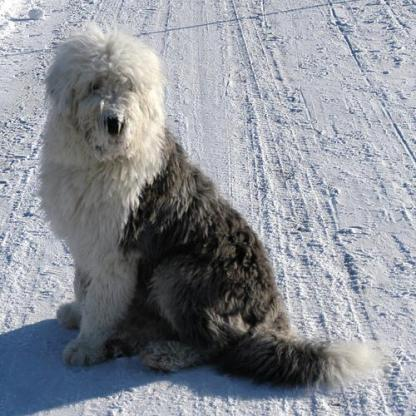Old_English_sheepdog: (32, 27, 388, 395)
